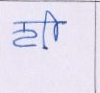i_matra: (46, 11, 60, 42)
